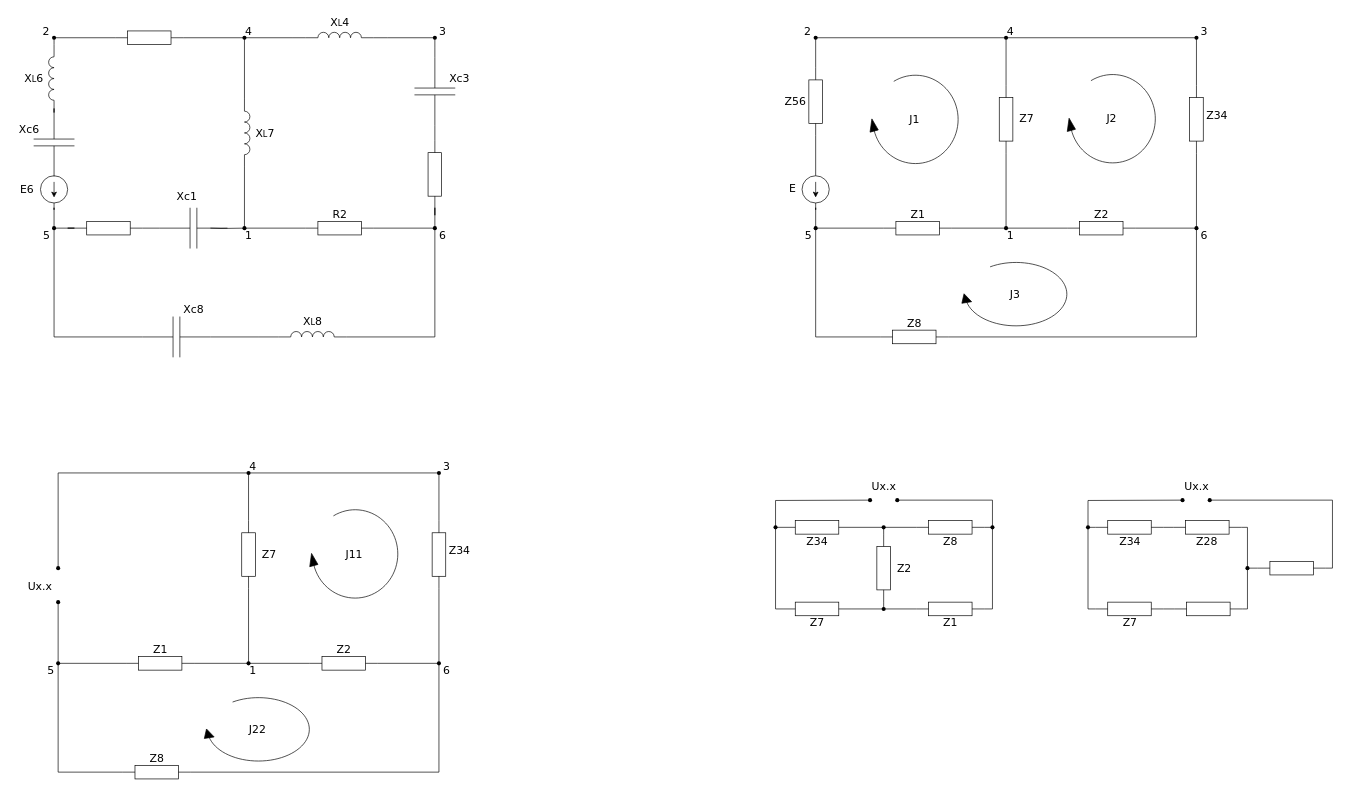
This 1345x791 diagram has some shape labels left out. Each missing label, with the centre of its shape:
R1: the point at 108,228
R3: the point at 434,174
R5: the point at 149,37
Z12: the point at 1208,608
Z18: the point at 1291,568
